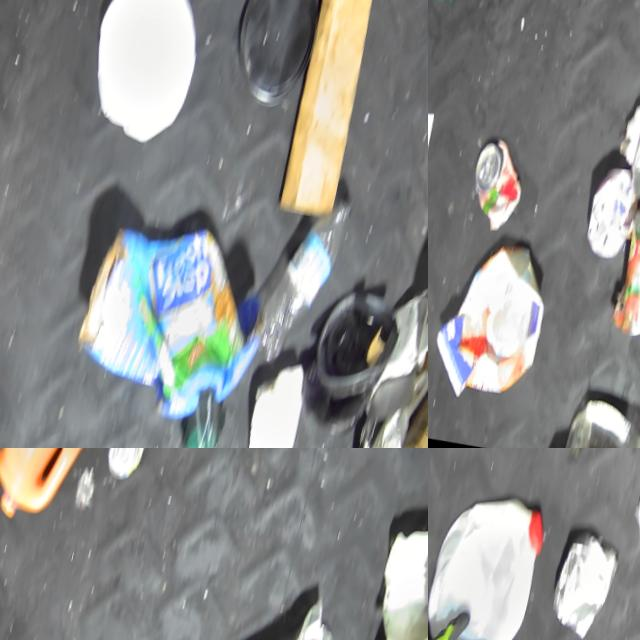can: (540, 523, 624, 640), (201, 581, 350, 640), (459, 129, 535, 239), (600, 194, 640, 354), (98, 448, 174, 490), (622, 86, 640, 218)
milk_jug: (428, 478, 550, 640)
non_white_jug: (0, 448, 140, 540)
plastic_bottle: (245, 189, 353, 378), (557, 391, 640, 448)
